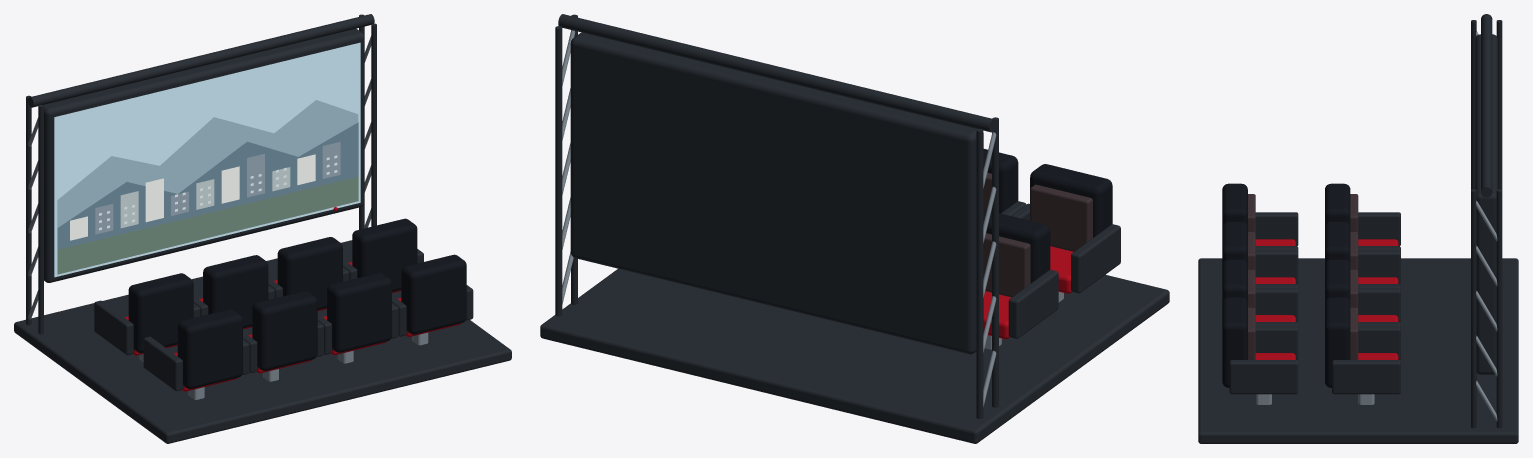
Rendered from CinemaScreen.glb.
3 views of the same model, side by side, from view 1: azimuth 30°, elevation 25°; view 2: azimuth 150°, elevation 25°; view 3: azimuth 270°, elevation 25° (orthographic). The views are drawn at different scales.
Parts seen in each view (by area): view 1: respaldo (×8), plataforma, cielo, cordillera (×2), marco, parque, edificio (×8), travesano, truss_vertical (×3), pantalla, apoyabrazos (×2); view 2: marco, plataforma, truss_vertical (×3), travesano, respaldo (×3), acolchado (×2), apoyabrazos (×2), asiento (×2); view 3: plataforma, apoyabrazos (×10), respaldo (×8), marco, truss_vertical (×4), travesano, acolchado (×5).
Part boxes in pixels (bbox=[...]): respaldo (×8): bbox=[128, 218, 466, 389]; plataforma: bbox=[14, 240, 511, 443]; cielo: bbox=[57, 46, 358, 199]; cordillera (×2): bbox=[57, 100, 358, 273]; marco: bbox=[43, 28, 364, 282]; parque: bbox=[57, 176, 358, 274]; edificio (×8): bbox=[95, 141, 340, 234]; travesano: bbox=[28, 14, 374, 107]; truss_vertical (×3): bbox=[26, 23, 376, 334]; pantalla: bbox=[54, 42, 360, 277]; apoyabrazos (×2): bbox=[94, 300, 182, 391]; marco: bbox=[570, 32, 983, 354]; plataforma: bbox=[540, 268, 1169, 443]; truss_vertical (×3): bbox=[555, 26, 998, 418]; travesano: bbox=[558, 14, 996, 132]; respaldo (×3): bbox=[983, 149, 1112, 283]; acolchado (×2): bbox=[983, 184, 1092, 297]; apoyabrazos (×2): bbox=[1008, 224, 1120, 338]; asiento (×2): bbox=[983, 246, 1073, 339]; plataforma: bbox=[1198, 258, 1518, 443]; apoyabrazos (×10): bbox=[1229, 212, 1400, 394]; respaldo (×8): bbox=[1222, 183, 1350, 387]; marco: bbox=[1475, 34, 1497, 374]; truss_vertical (×4): bbox=[1471, 20, 1502, 428]; travesano: bbox=[1481, 14, 1492, 197]; acolchado (×5): bbox=[1248, 194, 1358, 359].
Size of the model in its own units: 2.6 by 1.76 by 2.
